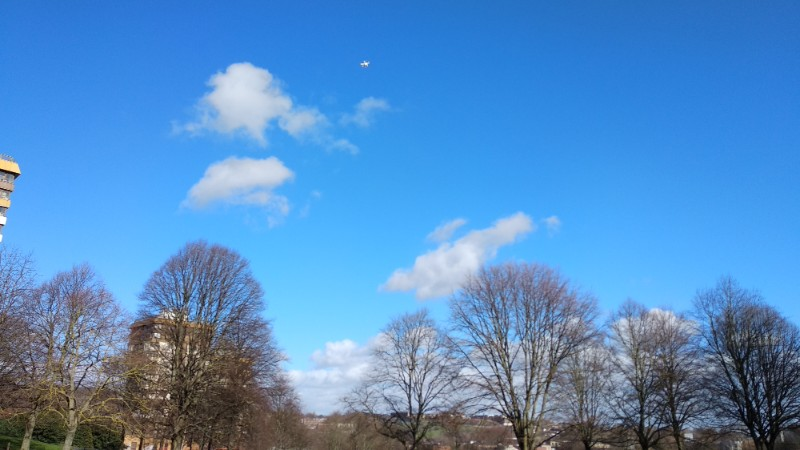drone: (359, 59, 372, 68)
